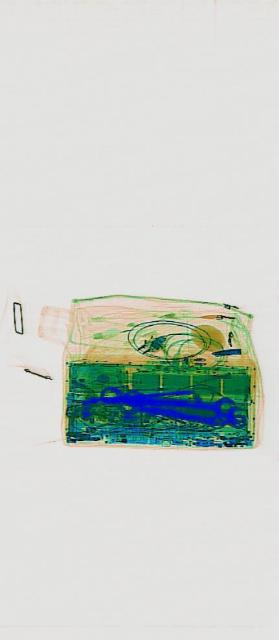Wrench: (99, 376, 234, 424)
